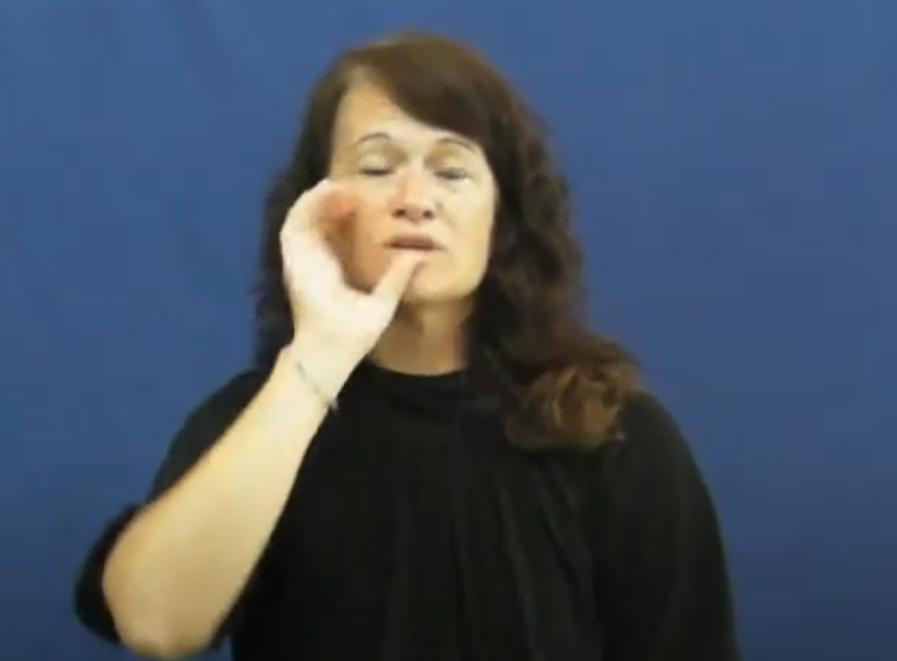drink: (247, 152, 459, 388)
